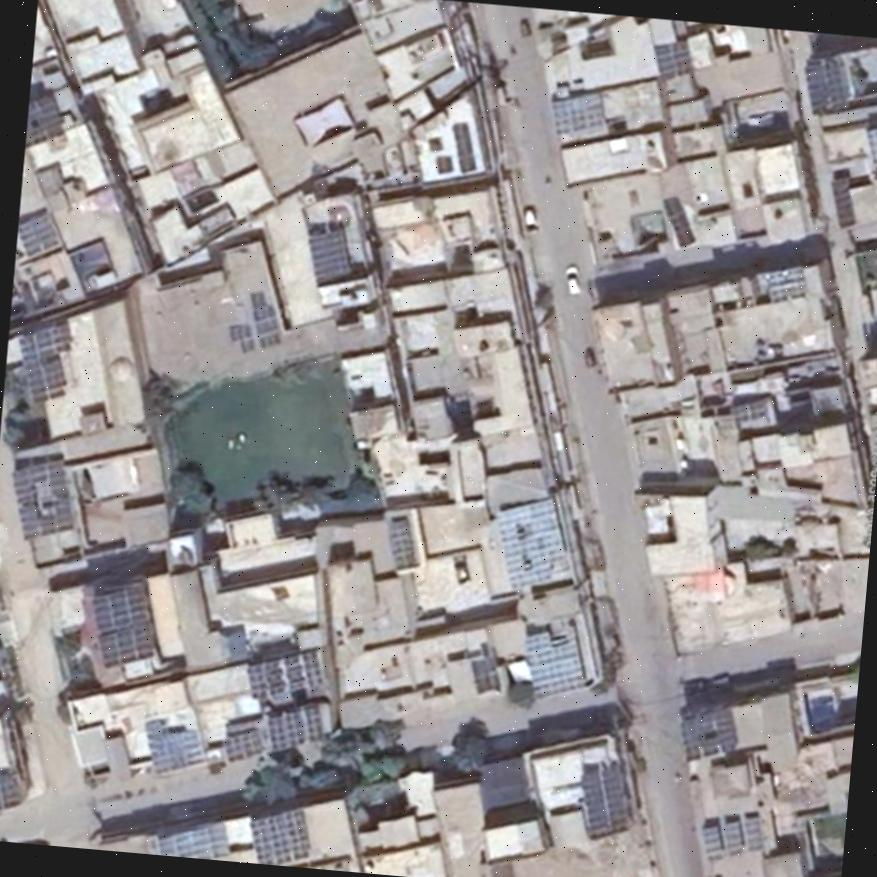Solarpanel: (496, 494, 566, 589), (91, 584, 151, 670), (10, 458, 72, 539), (16, 319, 76, 402), (523, 623, 585, 695), (244, 650, 322, 698), (144, 714, 200, 772), (250, 809, 310, 862), (679, 708, 738, 760), (582, 765, 626, 834), (160, 820, 233, 860), (263, 705, 322, 748), (703, 815, 763, 857), (803, 59, 847, 113), (308, 230, 350, 284), (551, 89, 601, 133), (25, 93, 64, 145), (17, 213, 58, 256), (661, 196, 696, 245), (651, 41, 690, 80), (765, 265, 806, 302), (219, 730, 262, 761), (387, 518, 412, 567), (830, 177, 853, 228), (729, 398, 766, 418), (0, 774, 20, 808)
